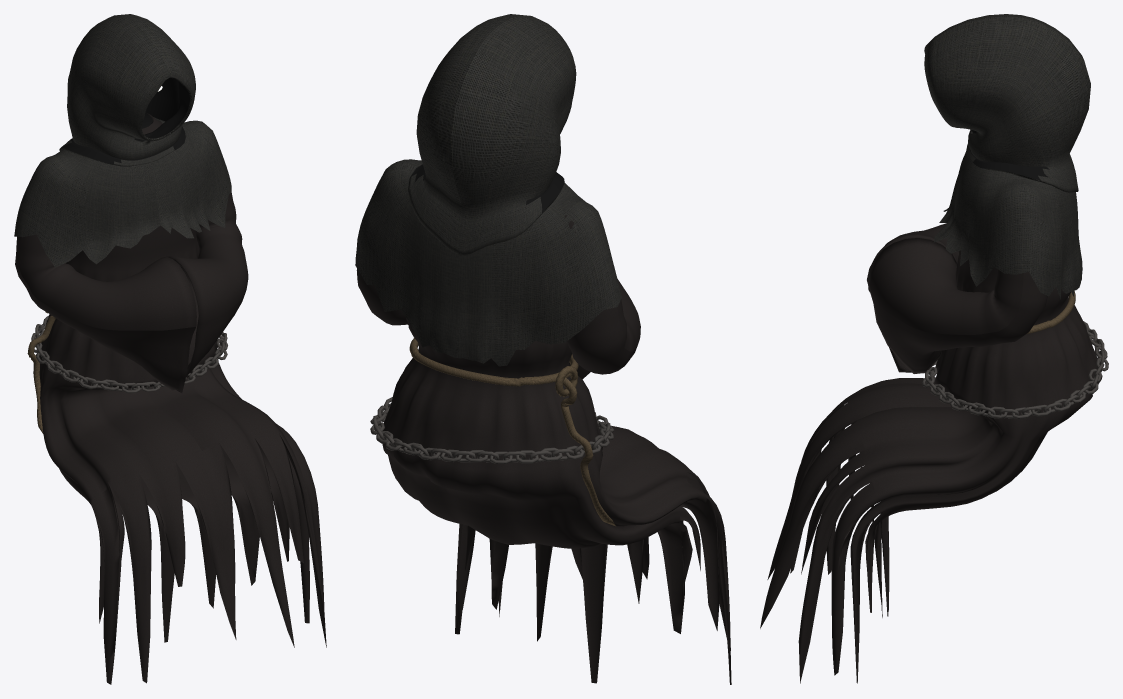
File: custode_seduto.glb
The picture shows the model from 3 angles, left to right: view 1: azimuth 30°, elevation 25°; view 2: azimuth 150°, elevation 25°; view 3: azimuth 270°, elevation 25°; orthographic projection. The views are drawn at different scales.
Parts seen in each view (by area): view 1: tunica, maniche, mantello, cappuccio, catena, corda; view 2: tunica, mantello, cappuccio, maniche, catena, corda; view 3: tunica, cappuccio, maniche, mantello, catena.
Boxes of the visible parts, x1,y1,x2,y2 form: tunica: (33, 113, 326, 684); maniche: (15, 192, 248, 392); mantello: (14, 117, 231, 267); cappuccio: (59, 14, 195, 166); catena: (31, 315, 227, 393); corda: (27, 311, 55, 433); tunica: (382, 318, 731, 684); mantello: (355, 159, 621, 366); cappuccio: (408, 14, 576, 255); maniche: (356, 215, 640, 379); catena: (370, 397, 614, 463); corda: (409, 338, 615, 526); tunica: (760, 250, 1102, 683); cappuccio: (924, 14, 1090, 192); maniche: (867, 223, 1047, 373); mantello: (933, 152, 1082, 299); catena: (922, 321, 1108, 418).
Bounding box in the file's own units: 1.3 × 3.27 × 1.67.
Materials: 6 (3 with a texture image).
